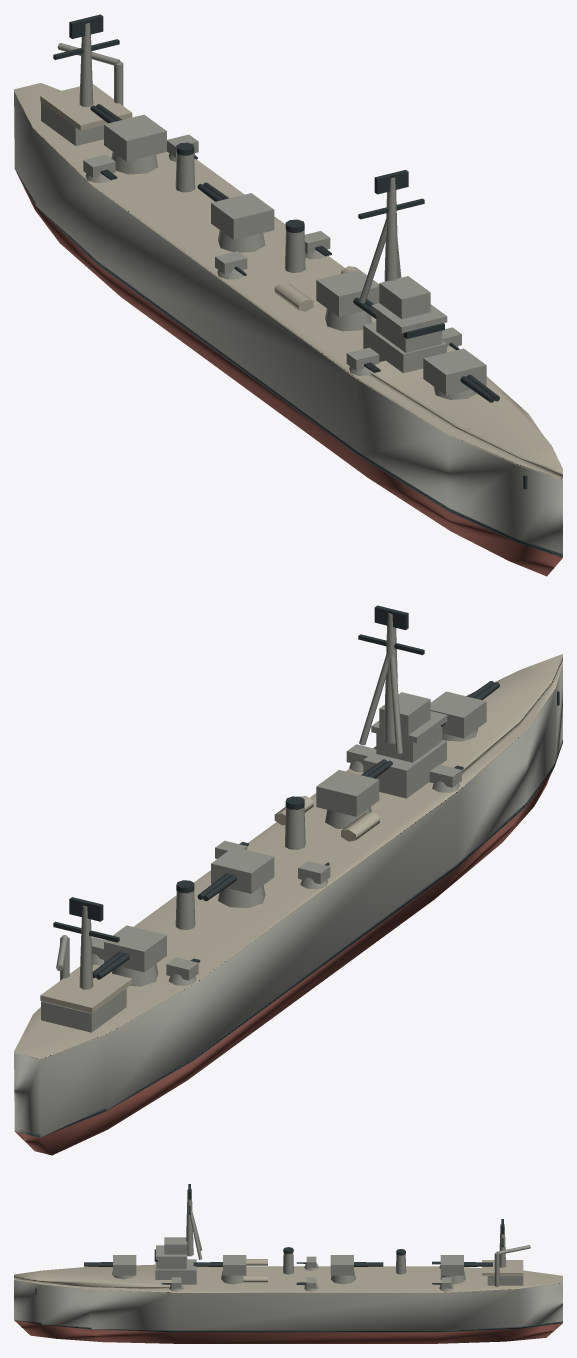
Rendered from brooklyn.glb.
3 views of the same model, one above another, from view 1: azimuth 30°, elevation 25°; view 2: azimuth 150°, elevation 25°; view 3: azimuth 270°, elevation 25° (orthographic). The views are drawn at different scales.
Parts seen in each view (by area): view 1: Freeboard, Deck, UnderwaterHull, Forecastle, Waterline, Main-Casing-2, Main-Casing-3, Main-Casing-0, Aviation-Handling-Deck, Main-Casing-1, Prewar-Upper-Bridge, Bridge-Foundation (+10 smaller); view 2: Freeboard, Deck, UnderwaterHull, Forecastle, Bridge-Foundation, Main-Casing-1, Aviation-Handling-Deck, Waterline, Main-Casing-2, Main-Casing-3, Main-Casing-0, AftDeckhouse (+9 smaller); view 3: Freeboard, Deck, UnderwaterHull, Forecastle, Waterline, Bridge-Foundation, Aviation-Handling-Deck, Main-Casing-0, Main-Casing-1, Main-Casing-2, Main-Casing-3, Prewar-Upper-Bridge (+6 smaller).
Boxes of the visible parts, x1,y1,x2,y2 form: Freeboard: [14, 91, 562, 553]; Deck: [14, 83, 562, 479]; UnderwaterHull: [16, 172, 562, 576]; Forecastle: [368, 347, 562, 477]; Waterline: [14, 168, 562, 557]; Main-Casing-2: [211, 193, 274, 239]; Main-Casing-3: [104, 114, 166, 161]; Main-Casing-0: [423, 348, 486, 395]; Aviation-Handling-Deck: [40, 84, 132, 130]; Main-Casing-1: [316, 270, 379, 316]; Prewar-Upper-Bridge: [379, 276, 430, 319]; Bridge-Foundation: [363, 322, 446, 373]; Freeboard: [14, 665, 562, 1137]; Deck: [14, 663, 562, 1059]; UnderwaterHull: [15, 768, 553, 1155]; Forecastle: [441, 654, 562, 774]; Bridge-Foundation: [363, 740, 446, 798]; Main-Casing-1: [316, 770, 379, 816]; Aviation-Handling-Deck: [40, 966, 132, 1013]; Waterline: [15, 739, 562, 1137]; Main-Casing-2: [211, 847, 274, 893]; Main-Casing-3: [104, 925, 166, 972]; Main-Casing-0: [430, 691, 486, 738]; AftDeckhouse: [41, 988, 126, 1032]; Freeboard: [14, 1280, 562, 1330]; Deck: [14, 1266, 562, 1292]; UnderwaterHull: [14, 1320, 562, 1343]; Forecastle: [14, 1264, 171, 1289]; Waterline: [16, 1320, 562, 1332]; Bridge-Foundation: [155, 1259, 196, 1284]; Aviation-Handling-Deck: [482, 1260, 523, 1275]; Main-Casing-0: [113, 1255, 136, 1275]; Main-Casing-1: [223, 1255, 246, 1275]; Main-Casing-2: [330, 1255, 353, 1275]; Main-Casing-3: [440, 1255, 463, 1275]; Prewar-Upper-Bridge: [164, 1237, 187, 1254].
Size of the model in its own units: 19.76 by 50.5 by 170.
